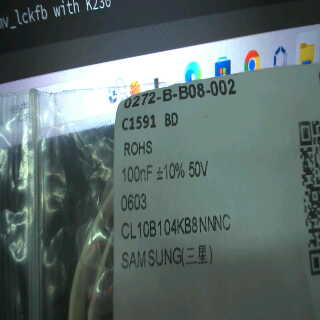100nF: (120, 163, 154, 187)
